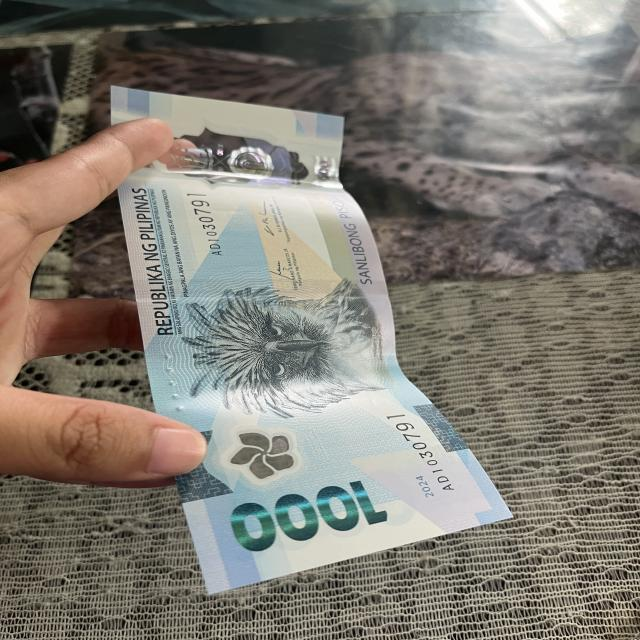clear_window: (110, 111, 353, 195)
eagle: (178, 273, 401, 426)
sampaguita: (208, 422, 343, 488)
security_thread: (133, 278, 392, 302)
serial_number: (372, 406, 461, 497), (182, 190, 228, 260)
value: (225, 478, 393, 550)
